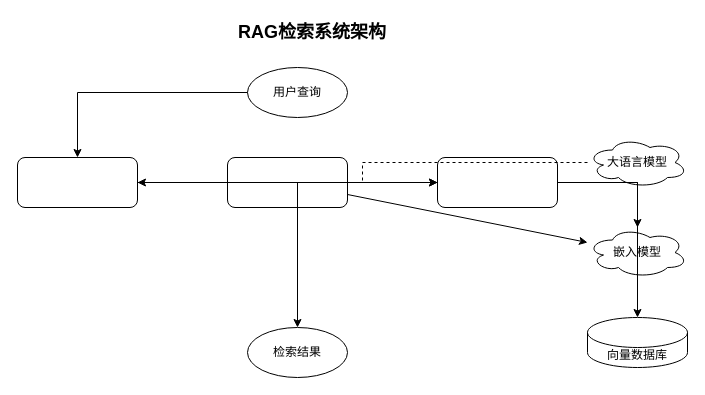
This 705x395 diagram has some shape labels left out. The box of each missing label's shape, as (x1, y1, x2, y2) in pixels:
向量存储服务: (436, 156, 558, 208)
文档处理器: (226, 156, 348, 208)
高级检索器: (16, 156, 138, 208)
